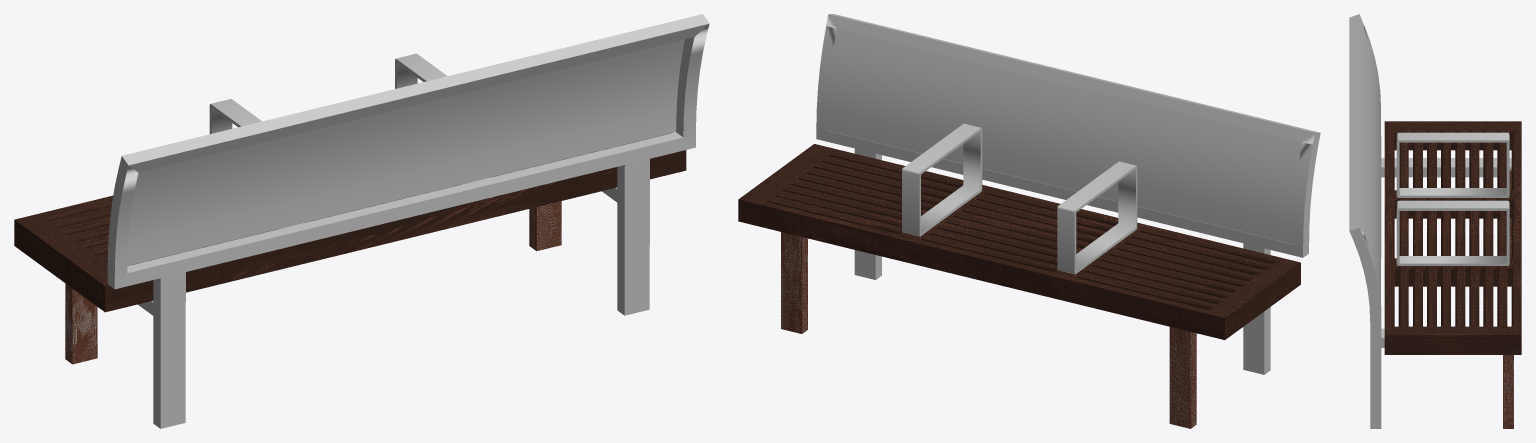
3 renders of one model, left to right at view 1: azimuth 30°, elevation 25°; view 2: azimuth 150°, elevation 25°; view 3: azimuth 270°, elevation 25°, orthographic. The views are drawn at different scales.
Parts seen in each view (by area): view 1: mesh14_mesh14-geometry, mesh12_mesh12-geometry, mesh1_mesh1-geometry, mesh15_mesh15-geometry, mesh2_mesh2-geometry, mesh10_mesh10-geometry, mesh3_mesh3-geometry, mesh8_mesh8-geometry; view 2: mesh14_mesh14-geometry, mesh1_mesh1-geometry, mesh12_mesh12-geometry, mesh3_mesh3-geometry, mesh2_mesh2-geometry, mesh15_mesh15-geometry, mesh10_mesh10-geometry, mesh8_mesh8-geometry; view 3: mesh1_mesh1-geometry, mesh3_mesh3-geometry, mesh14_mesh14-geometry, mesh12_mesh12-geometry, mesh15_mesh15-geometry, mesh8_mesh8-geometry, mesh2_mesh2-geometry.
Part boxes in pixels (bbox=[...]): mesh14_mesh14-geometry: bbox=[127, 39, 684, 265]; mesh12_mesh12-geometry: bbox=[115, 14, 709, 289]; mesh1_mesh1-geometry: bbox=[14, 133, 686, 312]; mesh15_mesh15-geometry: bbox=[138, 159, 649, 428]; mesh2_mesh2-geometry: bbox=[65, 201, 561, 364]; mesh10_mesh10-geometry: bbox=[107, 156, 138, 289]; mesh3_mesh3-geometry: bbox=[209, 53, 490, 229]; mesh8_mesh8-geometry: bbox=[676, 24, 709, 147]; mesh14_mesh14-geometry: bbox=[827, 28, 1302, 243]; mesh1_mesh1-geometry: bbox=[738, 144, 1300, 339]; mesh12_mesh12-geometry: bbox=[816, 14, 1319, 257]; mesh3_mesh3-geometry: bbox=[902, 123, 1137, 274]; mesh2_mesh2-geometry: bbox=[781, 232, 1196, 428]; mesh15_mesh15-geometry: bbox=[807, 148, 1270, 374]; mesh10_mesh10-geometry: bbox=[1292, 132, 1320, 257]; mesh8_mesh8-geometry: bbox=[816, 14, 836, 138]; mesh1_mesh1-geometry: bbox=[1384, 121, 1521, 354]; mesh3_mesh3-geometry: bbox=[1396, 132, 1509, 265]; mesh14_mesh14-geometry: bbox=[1363, 29, 1380, 310]; mesh12_mesh12-geometry: bbox=[1349, 14, 1363, 231]; mesh15_mesh15-geometry: bbox=[1370, 135, 1511, 428]; mesh8_mesh8-geometry: bbox=[1349, 227, 1380, 332]; mesh2_mesh2-geometry: bbox=[1503, 170, 1513, 428].
Size of the model in its own units: 0.863 by 0.411 by 0.2938.
